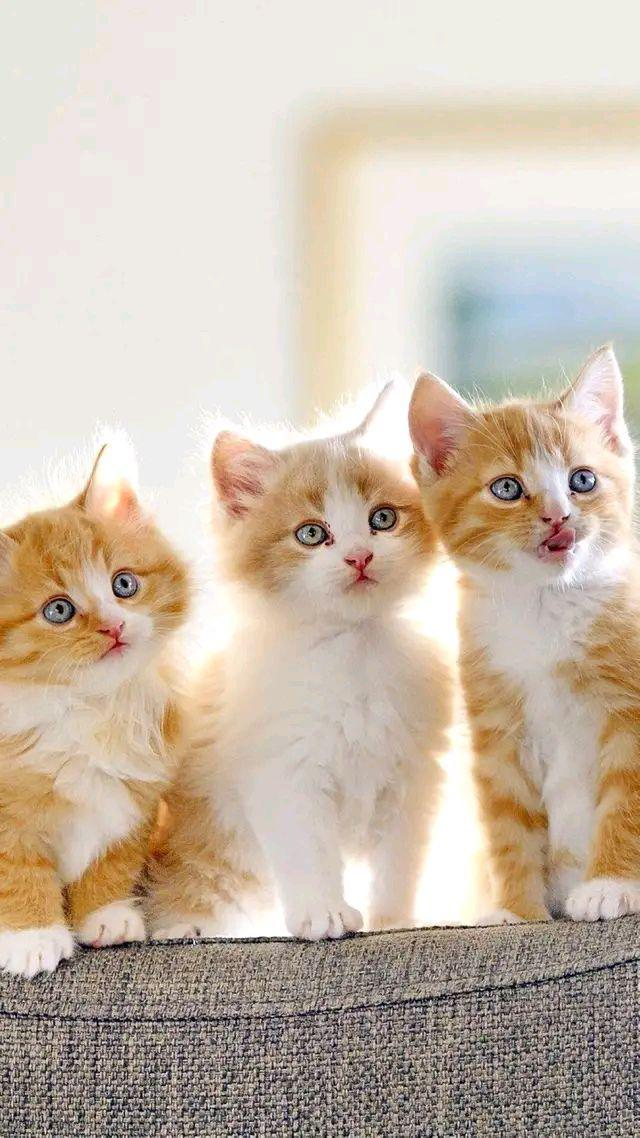cat: (187, 380, 452, 941), (403, 344, 640, 917), (1, 428, 204, 975)
